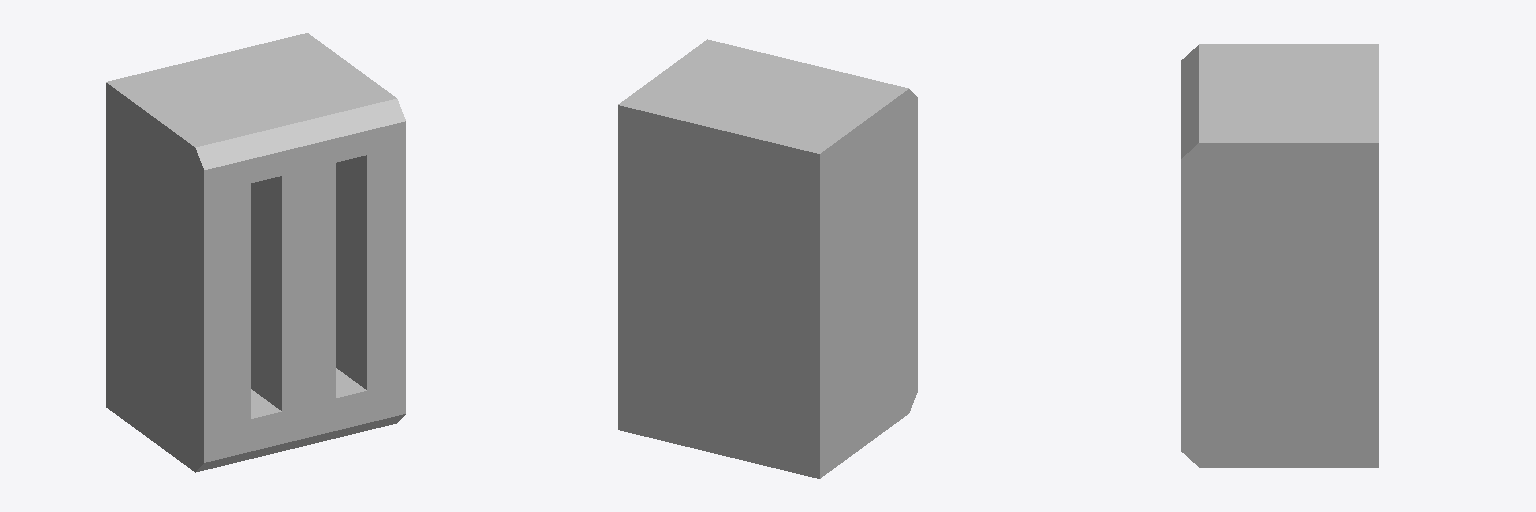
File: toaster_rs_gb.obj
3 renders of one model, left to right at view 1: azimuth 30°, elevation 25°; view 2: azimuth 150°, elevation 25°; view 3: azimuth 270°, elevation 25°, orthographic.
Visible parts, largest first — view 1: ____01; view 2: ____01; view 3: ____01.
Boxes of the visible parts, x1,y1,x2,y2 form: ____01: [106, 33, 405, 472]; ____01: [618, 39, 917, 478]; ____01: [1181, 44, 1378, 467].
Size of the model in its own units: 0.13 by 0.2 by 0.11.